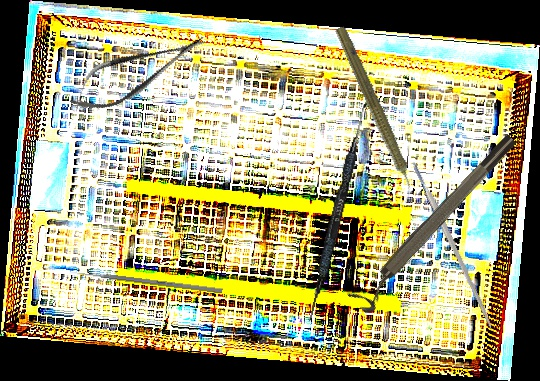Fixation Ring: (346, 131, 527, 316)
Handpiece: (328, 24, 424, 205)
Micro Scissor: (61, 20, 215, 124)
Pusher: (69, 269, 223, 294)
Scalpel Handle: (410, 159, 496, 331)
Spatula Surgical: (306, 96, 371, 323)
